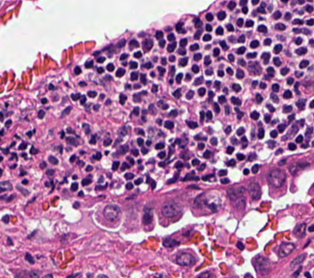nucleus: (267, 169, 285, 187), (248, 61, 261, 74), (142, 39, 152, 51), (61, 106, 71, 116), (167, 173, 177, 183), (176, 22, 185, 33), (167, 41, 176, 51), (118, 144, 128, 153), (183, 174, 198, 180), (261, 52, 269, 63), (66, 137, 77, 145), (129, 39, 138, 48), (193, 17, 201, 27), (265, 67, 273, 77), (81, 177, 91, 185), (273, 44, 281, 53), (179, 57, 187, 66), (270, 93, 278, 102), (231, 97, 240, 105), (164, 120, 173, 128), (48, 156, 57, 164), (275, 23, 285, 30), (175, 73, 182, 83), (119, 94, 126, 104), (187, 121, 197, 128), (82, 123, 89, 133), (257, 127, 263, 138), (194, 134, 205, 140), (217, 11, 225, 19), (117, 39, 125, 47), (157, 66, 165, 74), (116, 68, 124, 76), (194, 77, 202, 85), (250, 111, 258, 119), (267, 140, 275, 148), (126, 156, 134, 164), (121, 162, 129, 170), (257, 25, 266, 32), (220, 40, 227, 49), (236, 69, 243, 78), (130, 71, 137, 80), (186, 90, 193, 99), (71, 93, 80, 100), (155, 142, 164, 149), (92, 152, 101, 159), (112, 161, 119, 170), (140, 74, 146, 84), (90, 134, 96, 144), (228, 1, 235, 9), (257, 6, 265, 13), (194, 30, 201, 38), (155, 31, 162, 39), (167, 33, 174, 41), (179, 38, 186, 46), (250, 40, 258, 47), (190, 43, 198, 50), (237, 47, 245, 54), (273, 57, 280, 65), (129, 61, 137, 68), (232, 84, 240, 91), (198, 87, 205, 95), (173, 89, 180, 97), (133, 93, 140, 101), (132, 107, 139, 115), (119, 127, 126, 135), (237, 127, 244, 135), (103, 138, 111, 145), (203, 150, 210, 158), (248, 153, 256, 160), (134, 177, 142, 184), (241, 136, 246, 147), (247, 52, 256, 58), (204, 55, 210, 64), (87, 91, 96, 97), (213, 103, 219, 112), (148, 104, 154, 113), (252, 164, 258, 173), (202, 174, 211, 180), (273, 11, 280, 18), (120, 53, 127, 60), (194, 53, 201, 60), (238, 58, 245, 65), (272, 84, 279, 91), (218, 95, 225, 102), (267, 104, 274, 111), (278, 124, 285, 131), (224, 126, 231, 133), (270, 130, 277, 137), (226, 146, 233, 153), (30, 147, 37, 154), (158, 151, 165, 158), (237, 153, 244, 160), (175, 161, 182, 168), (198, 163, 205, 170), (237, 18, 243, 26), (245, 20, 253, 26), (216, 26, 222, 34), (203, 34, 211, 40), (213, 48, 219, 56), (144, 62, 152, 68), (74, 66, 80, 74), (256, 94, 262, 102), (38, 110, 44, 118), (169, 110, 177, 116), (210, 137, 216, 145), (227, 159, 235, 165), (46, 169, 54, 175), (125, 173, 133, 179), (169, 66, 174, 75), (80, 95, 85, 104), (206, 13, 212, 20), (205, 24, 211, 31), (226, 24, 233, 30), (238, 35, 244, 42), (159, 39, 165, 46), (178, 48, 185, 54), (134, 51, 141, 57), (85, 61, 92, 67), (107, 63, 113, 70), (192, 65, 198, 72), (226, 67, 232, 74), (205, 69, 212, 75), (151, 85, 157, 92), (206, 111, 212, 118), (237, 111, 243, 118), (264, 115, 270, 122), (5, 119, 11, 126), (231, 137, 237, 144), (137, 138, 143, 145), (198, 142, 204, 149), (19, 143, 26, 149), (141, 147, 147, 154), (275, 148, 282, 154), (131, 149, 138, 155), (70, 155, 76, 162), (192, 159, 199, 165), (278, 159, 285, 165), (85, 165, 92, 171), (200, 111, 204, 121), (218, 170, 226, 175), (264, 38, 270, 44), (97, 67, 103, 73), (217, 70, 223, 76), (214, 81, 220, 87), (259, 82, 265, 88), (225, 105, 229, 114), (26, 131, 32, 137), (239, 0, 246, 5), (242, 6, 247, 13), (228, 54, 233, 61), (97, 57, 104, 62), (161, 57, 166, 64), (252, 80, 257, 87), (137, 129, 144, 134), (98, 176, 103, 183), (169, 55, 174, 61), (185, 74, 190, 80), (208, 91, 213, 97), (41, 98, 47, 103), (93, 104, 98, 110), (271, 119, 277, 124), (78, 161, 84, 166), (40, 162, 45, 168), (133, 84, 140, 88), (67, 128, 74, 132), (49, 84, 54, 89), (105, 99, 110, 104), (162, 104, 167, 109), (243, 169, 248, 174), (20, 170, 25, 175), (252, 0, 258, 4), (229, 36, 233, 42), (79, 81, 85, 85), (159, 162, 165, 166), (60, 131, 63, 138), (153, 56, 157, 61), (122, 61, 127, 65), (125, 84, 130, 88), (223, 88, 227, 93), (100, 94, 104, 99), (158, 101, 162, 106), (235, 107, 239, 112), (175, 139, 180, 143), (146, 140, 150, 145), (12, 153, 16, 158), (21, 153, 26, 157), (10, 164, 15, 168), (142, 115, 145, 121), (150, 72, 154, 76), (206, 81, 210, 85), (0, 112, 2, 120), (157, 119, 161, 123), (3, 149, 7, 153), (72, 175, 76, 179), (206, 45, 210, 48), (169, 79, 172, 83), (80, 150, 84, 153), (105, 150, 108, 154), (139, 165, 142, 169), (1, 129, 3, 134)
